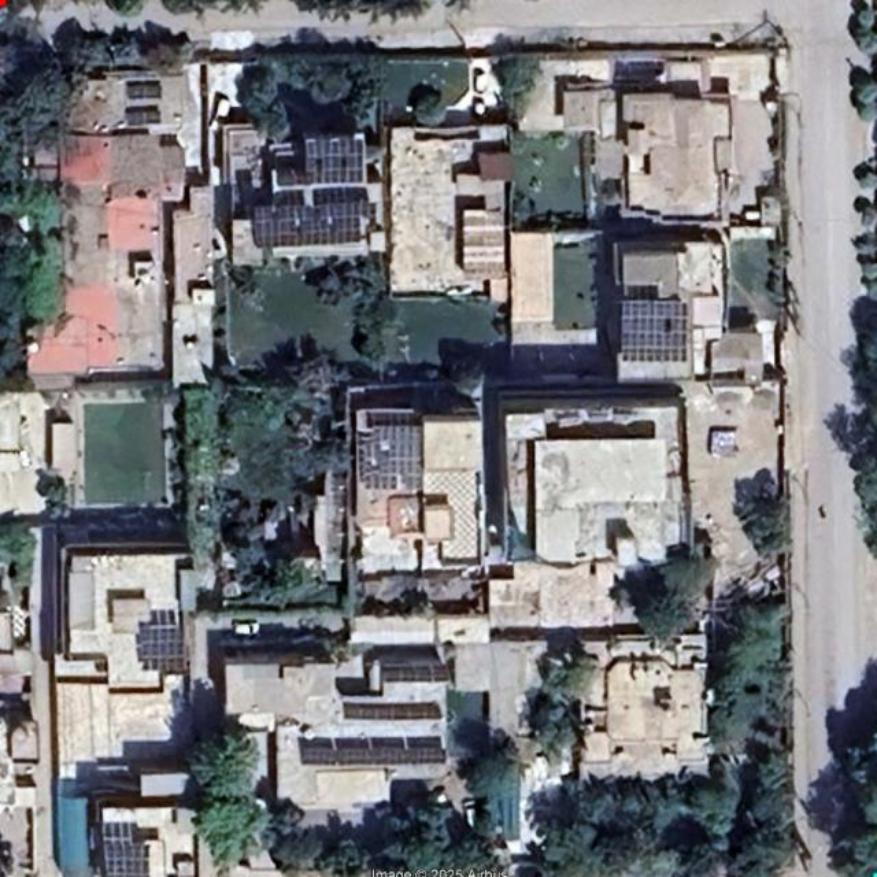Solarpanel: (255, 201, 363, 249), (619, 301, 687, 359), (367, 426, 424, 491), (305, 133, 361, 184), (303, 746, 447, 765), (104, 824, 150, 876), (138, 626, 183, 670), (344, 702, 441, 722), (384, 667, 451, 681)
